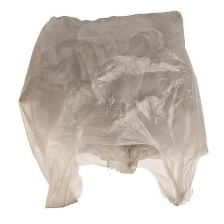plastic_bag: (12, 5, 212, 219)
